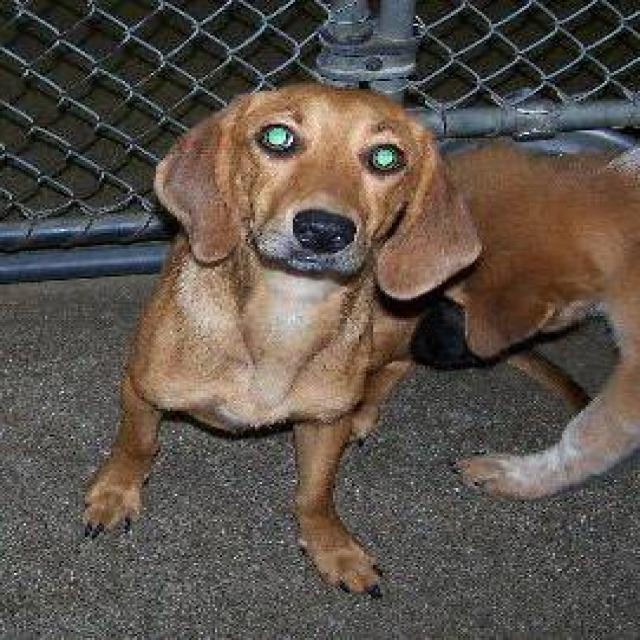dog: (78, 79, 638, 599)
